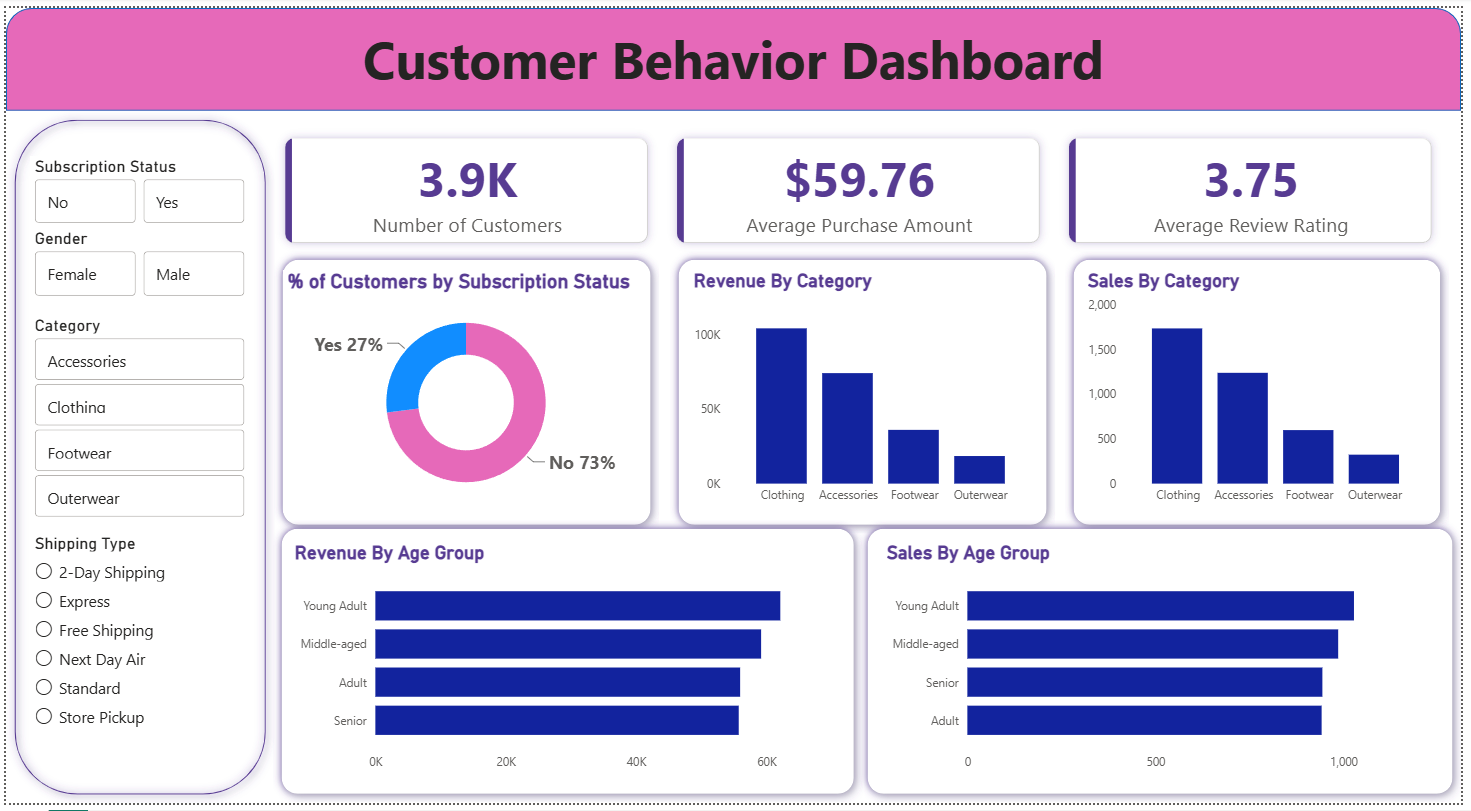

This screenshot's page, from the dashboard's own definition file:
{"tool":"powerbi","page":{"name":"Page 1","canvas":[1500,820],"ordinal":0},"visuals":[{"type":"cardVisual","fields":{"Data":["public customer.Number of Customers","public customer.Average Purchase Amount","public customer.Average Review Rating"]},"box":[259.5,105.9,1240.5,164.2],"z":0},{"type":"shape","box":[0,0,1500,105.9],"z":1000},{"type":"textbox","box":[0,10.6,1500,95.3],"z":2000},{"type":"shape","box":[276.7,250.2,397.2,291.3],"z":3000},{"type":"donutChart","title":"% of Customers by Subscription Status","fields":{"Category":["public customer.subscription_status"],"Y":["CountNonNull(public customer.customer_id)"]},"box":[286,270.1,377.3,250.2],"z":4000},{"type":"shape","box":[684.5,250.2,397.2,291.3],"z":5000},{"type":"shape","box":[1092.2,250.2,395.9,291.3],"z":6000},{"type":"clusteredColumnChart","title":"Revenue By Category","fields":{"Y":["Sum(public customer.purchase_amount)"],"Category":["public customer.category"]},"box":[704.3,270.1,360.1,250.2],"z":7000},{"type":"clusteredColumnChart","title":"Sales By Category","fields":{"Y":["CountNonNull(public customer.customer_id)"],"Category":["public customer.category"]},"box":[1110.8,270.1,360.1,250.2],"z":8000},{"type":"shape","box":[0,105.9,276.7,713.6],"z":9000},{"type":"advancedSlicerVisual","fields":{"Values":["public customer.subscription_status"]},"box":[25.2,152.3,226.4,74.1],"z":10000},{"type":"advancedSlicerVisual","fields":{"Values":["public customer.gender"]},"box":[25.2,226.4,226.4,75.5],"z":11000},{"type":"advancedSlicerVisual","fields":{"Values":["public customer.category"]},"box":[25.2,316.4,226.4,213.2],"z":12000},{"type":"listSlicer","fields":{"Values":["public customer.shipping_type"]},"box":[25.2,541.5,181.4,211.8],"z":13000},{"type":"clusteredBarChart","title":"Revenue By Age Group","fields":{"Y":["Sum(public customer.purchase_amount)"],"Category":["public customer.age_group"]},"box":[286,550.8,573.3,244.9],"z":14000},{"type":"shape","box":[275.4,528.2,607.7,291.3],"z":15000},{"type":"shape","box":[879.1,528.2,620.9,291.3],"z":15001},{"type":"clusteredBarChart","title":"Sales By Age Group","fields":{"Y":["CountNonNull(public customer.customer_id)"],"Category":["public customer.age_group"]},"box":[902.9,550.8,573.3,244.9],"z":15002},{"type":"clusteredBarChart","title":"Revenue By Age Group","fields":{"Y":["Sum(public customer.purchase_amount)"],"Category":["public customer.age_group"]},"box":[292.6,550.8,573.3,244.9],"z":15003}]}

Visuals, with their boxes in screenshot pixels (x1, y1, x2, y2), scaled from the page's 1500x820 canvas onto the 1471x811 screenshot:
cardVisual - public customer.Number of Customers x public customer.Average Purchase Amount: box(254, 105, 1470, 267)
shape: box(0, 0, 1470, 105)
textbox: box(0, 10, 1470, 105)
shape: box(271, 247, 661, 536)
"% of Customers by Subscription Status" donutChart: box(280, 267, 650, 515)
shape: box(671, 247, 1061, 536)
shape: box(1071, 247, 1459, 536)
"Revenue By Category" clusteredColumnChart: box(691, 267, 1044, 515)
"Sales By Category" clusteredColumnChart: box(1089, 267, 1442, 515)
shape: box(0, 105, 271, 810)
advancedSlicerVisual - public customer.subscription_status: box(25, 151, 247, 224)
advancedSlicerVisual - public customer.gender: box(25, 224, 247, 299)
advancedSlicerVisual - public customer.category: box(25, 313, 247, 524)
listSlicer - public customer.shipping_type: box(25, 536, 203, 745)
"Revenue By Age Group" clusteredBarChart: box(280, 545, 843, 787)
shape: box(270, 522, 866, 810)
shape: box(862, 522, 1470, 810)
"Sales By Age Group" clusteredBarChart: box(885, 545, 1448, 787)
"Revenue By Age Group" clusteredBarChart: box(287, 545, 849, 787)
